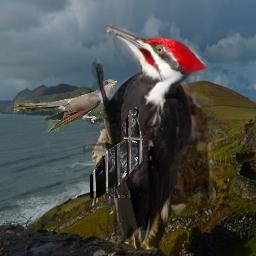Crow: (90, 107, 143, 198)
Cuckoo: (14, 79, 117, 132)
Woodpecker: (83, 25, 213, 242)
